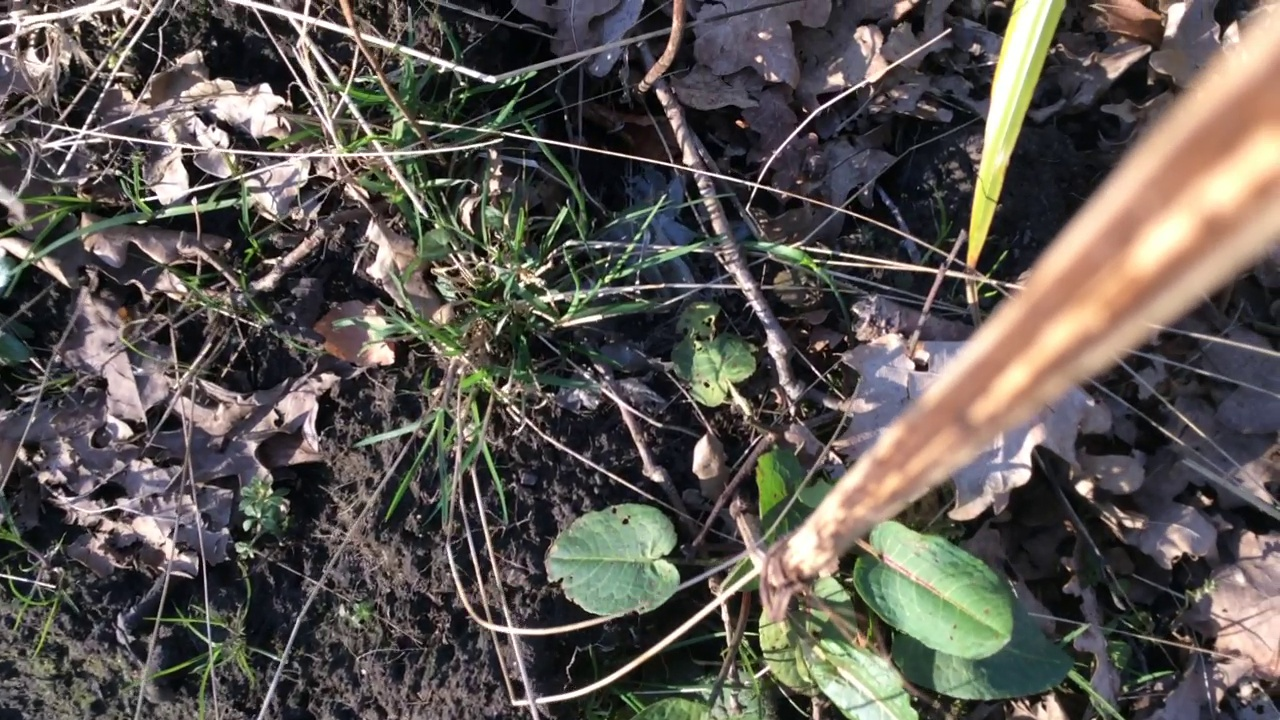rumex: (546, 300, 1075, 720)
